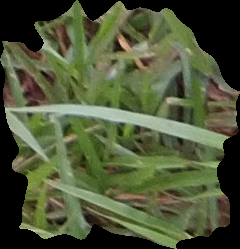grass: (1, 1, 238, 247)
